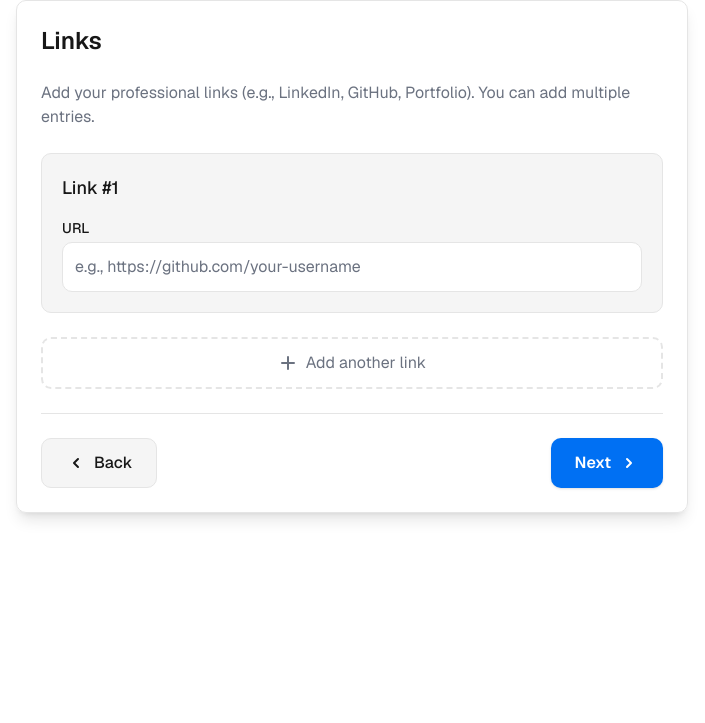
Test case: LinksForm Component › Zarządzanie listą linków › powinien dodać nowe pole po kliknięciu 'Add another link'
Click the button "Add another link": (352, 363) [41,337,663,389]
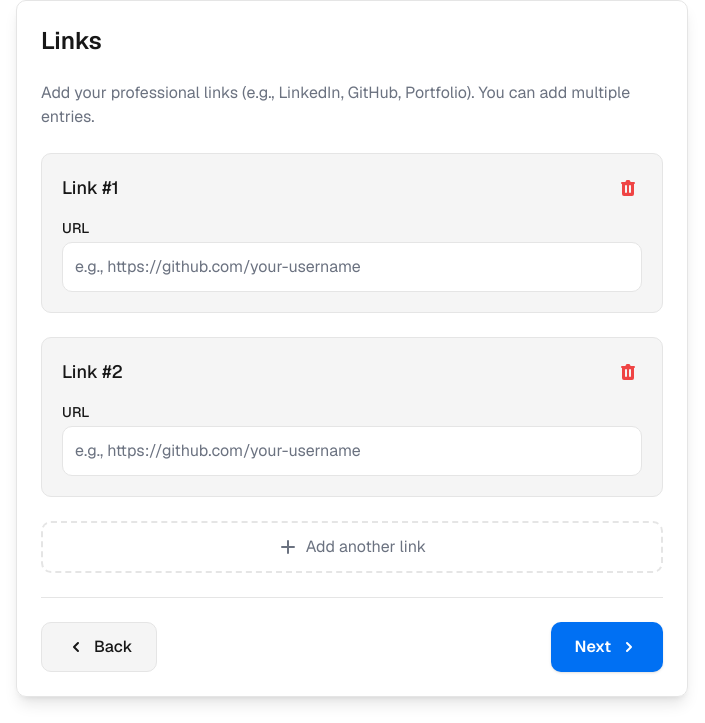
Expected: the number of fields is 2, [62,242,642,292]; [62,426,642,476]
Now the heading "Link #2" is shown, box [62,358,123,386]
